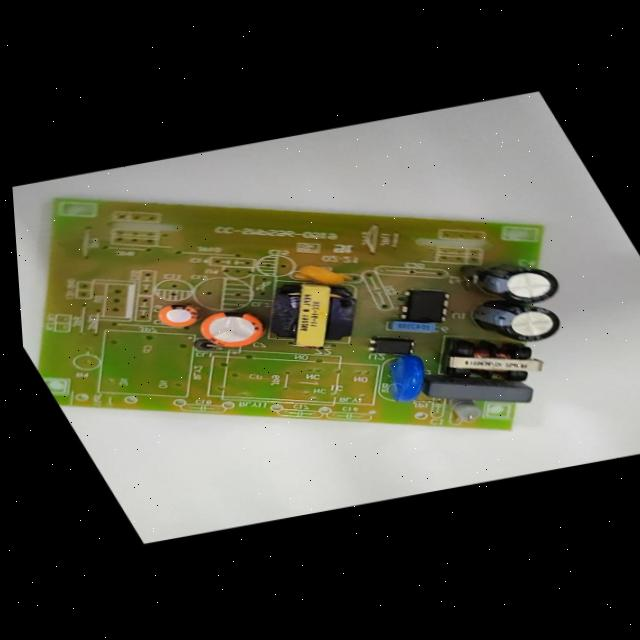Cap1: (191, 305, 276, 353)
Cap2: (144, 298, 208, 332)
Cap3: (460, 291, 576, 354)
Cap4: (457, 254, 574, 315)
MOSFET: (378, 280, 466, 332)
Mov: (360, 350, 448, 411)
Resistor: (444, 397, 490, 426)
Transformer: (243, 269, 384, 358), (415, 321, 558, 399)
